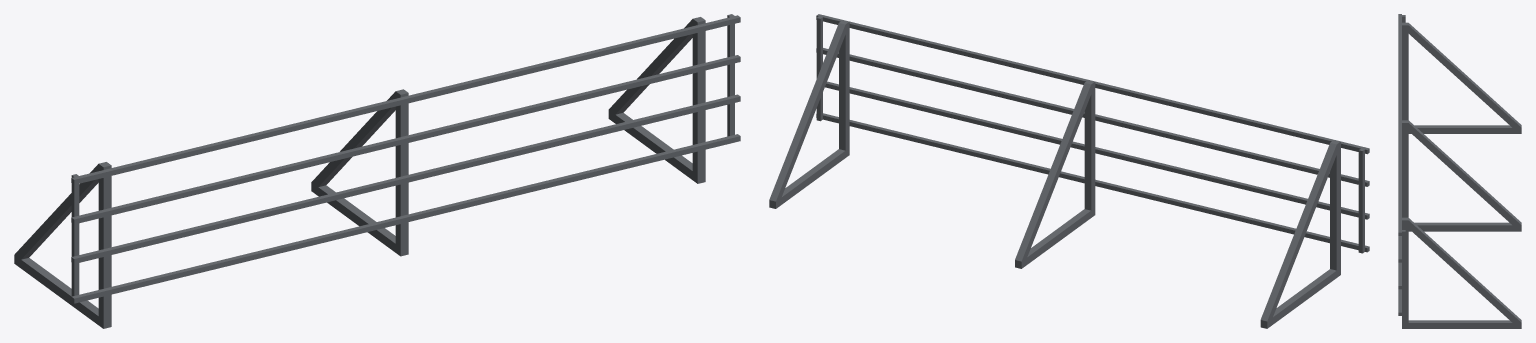
File: SM_Sign_Backing_Long_05.obj
3 renders of one model, left to right at view 1: azimuth 30°, elevation 25°; view 2: azimuth 150°, elevation 25°; view 3: azimuth 270°, elevation 25°, orthographic. The views are drawn at different scales.
Parts seen in each view (by area): view 1: SM_Sign_Backing_Long_05_0; view 2: SM_Sign_Backing_Long_05_0; view 3: SM_Sign_Backing_Long_05_0.
Boxes of the visible parts, box(x1,y1,x2,y2) form: SM_Sign_Backing_Long_05_0: box(14, 14, 740, 328); SM_Sign_Backing_Long_05_0: box(769, 14, 1369, 328); SM_Sign_Backing_Long_05_0: box(1398, 14, 1521, 328).
Size of the model in its own units: 7.85 by 1.82 by 1.88.
Materials: 1 (1 with a texture image).
